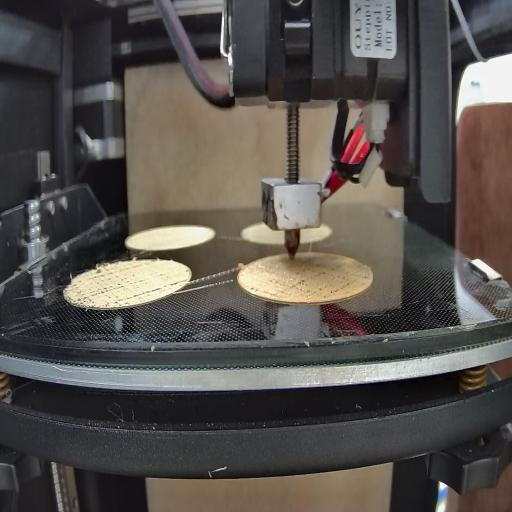under_extrusion: (70, 266, 163, 307), (248, 269, 370, 298), (169, 274, 190, 296)
